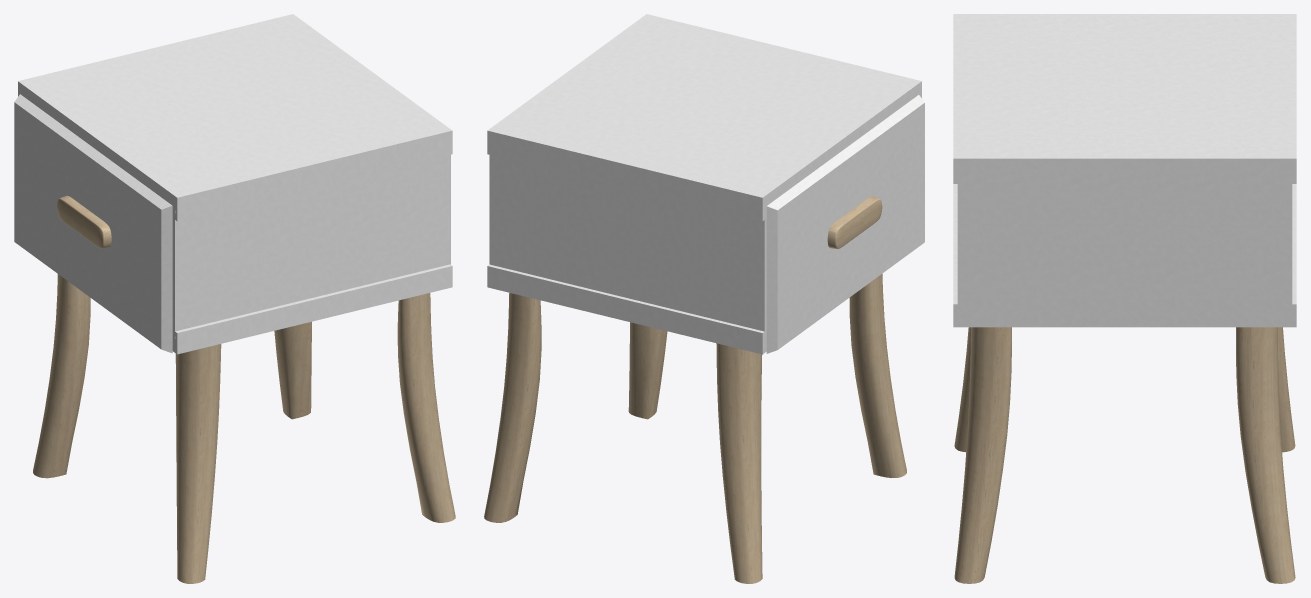
File: TableDeChevet.FBX
The picture shows the model from 3 angles, left to right: view 1: azimuth 30°, elevation 25°; view 2: azimuth 150°, elevation 25°; view 3: azimuth 270°, elevation 25°; orthographic projection. The views are drawn at different scales.
Visible parts, largest first — view 1: Object003, ChevetBois; view 2: Object003, ChevetBois; view 3: Object003, ChevetBois.
Boxes of the visible parts, x1=… form: Object003: x1=14, y1=14, x2=452, y2=354; ChevetBois: x1=33, y1=195, x2=455, y2=583; Object003: x1=487, y1=14, x2=924, y2=354; ChevetBois: x1=484, y1=196, x2=906, y2=583; Object003: x1=953, y1=14, x2=1296, y2=327; ChevetBois: x1=954, y1=327, x2=1295, y2=583.
Size of the model in its own units: 13.96 by 17.28 by 12.77.
